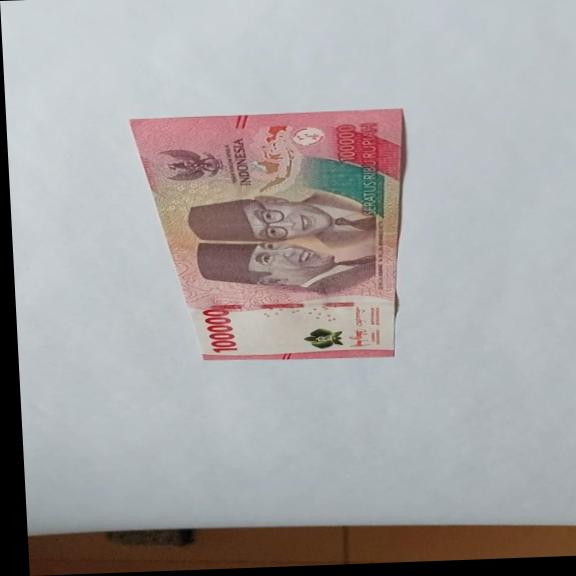Kertas: (127, 107, 417, 366), (200, 306, 238, 354)
